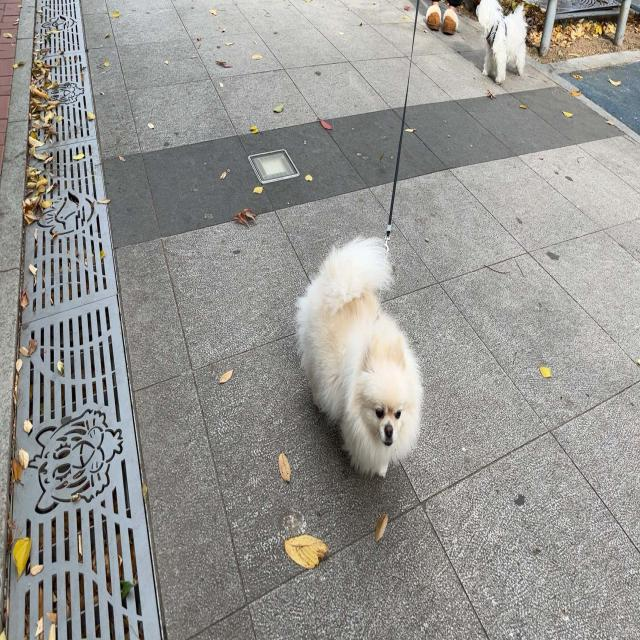Dog: (295, 235, 424, 481), (475, 0, 527, 84)
